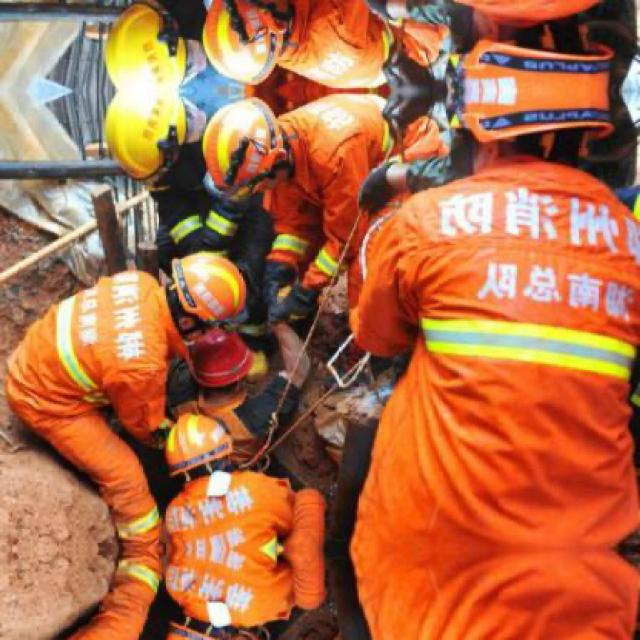2: (343, 92, 632, 544), (11, 260, 246, 542), (203, 96, 399, 300), (342, 0, 632, 91), (103, 91, 251, 258), (152, 418, 326, 547), (11, 557, 248, 638), (203, 0, 400, 88), (152, 552, 328, 639), (102, 0, 250, 93), (162, 332, 303, 427)
helmet: (460, 92, 618, 180), (460, 3, 618, 91), (102, 92, 186, 178), (203, 100, 282, 191), (102, 6, 186, 91), (158, 409, 240, 492), (203, 0, 283, 83), (172, 254, 250, 330), (189, 328, 257, 402), (158, 608, 242, 638)
